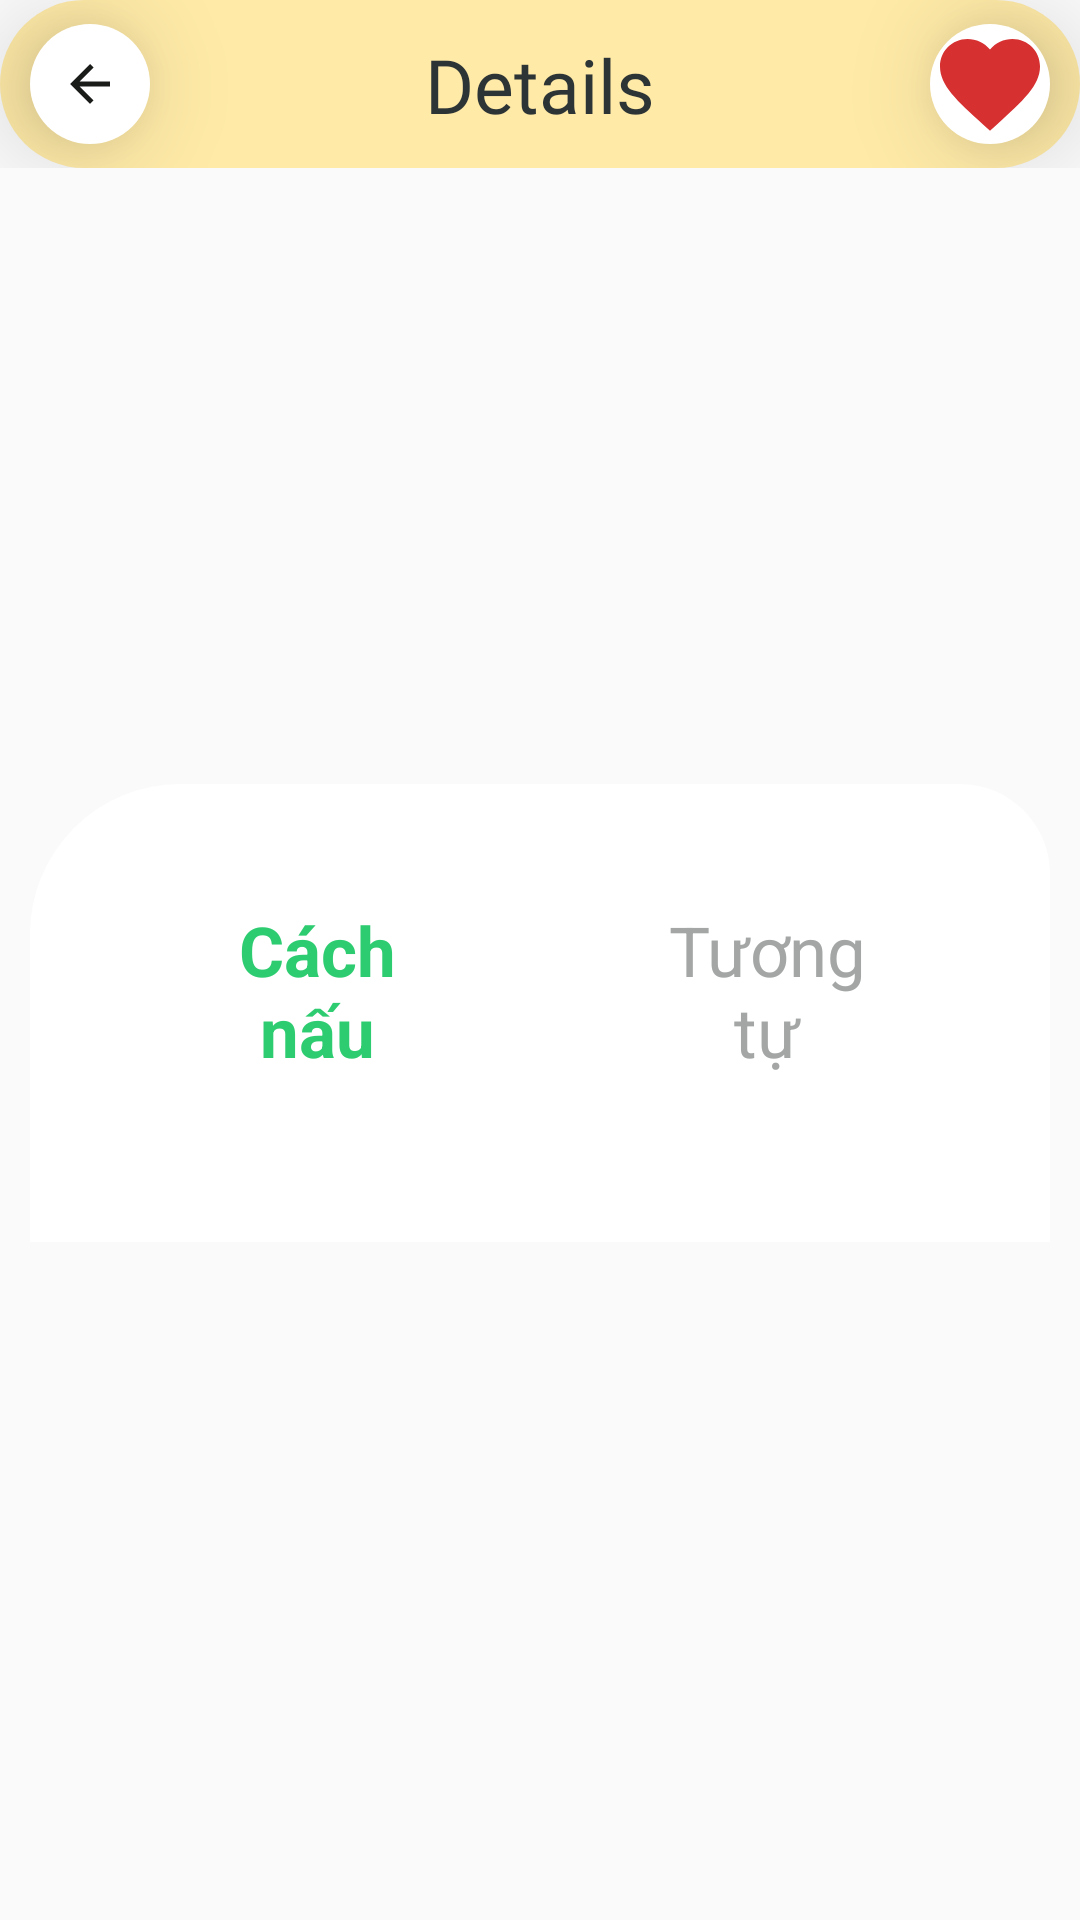

Screen size 1080*1920. Icon name, then its box in pixels as [x1=x1, y1=y1, x2=x2, y2=y2]:
arrow back: [x1=30, y1=24, x2=150, y2=144]
favorite: [x1=930, y1=24, x2=1050, y2=144]
